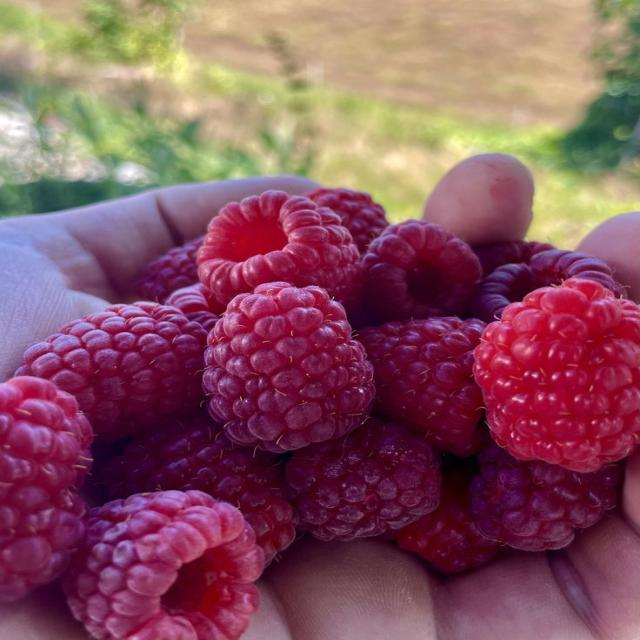raspberry: (474, 279, 639, 472), (102, 412, 297, 563), (65, 491, 263, 639), (204, 283, 374, 452), (18, 302, 206, 437), (0, 377, 92, 600), (286, 418, 440, 540), (198, 191, 361, 304), (359, 317, 485, 455), (472, 446, 619, 551), (0, 377, 92, 508), (472, 243, 624, 322), (363, 220, 481, 320), (392, 469, 499, 574), (0, 484, 85, 601), (307, 189, 388, 254), (530, 249, 626, 296), (137, 237, 203, 303), (472, 263, 544, 322), (474, 240, 554, 276), (167, 283, 224, 332)
